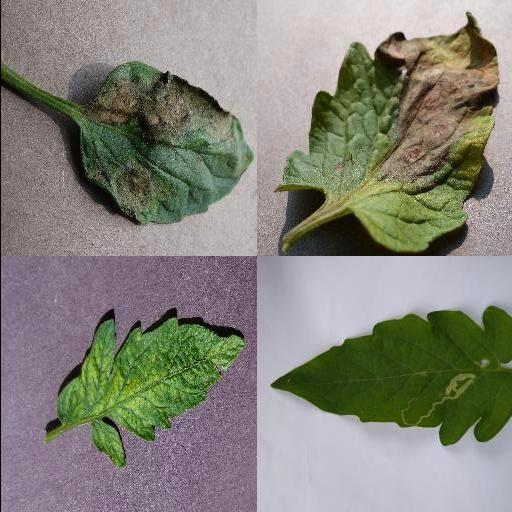Late Blight: (271, 12, 503, 254), (78, 60, 254, 228)
Leaf Miner: (270, 305, 512, 448)
Mosaic Virus: (56, 313, 250, 469)
